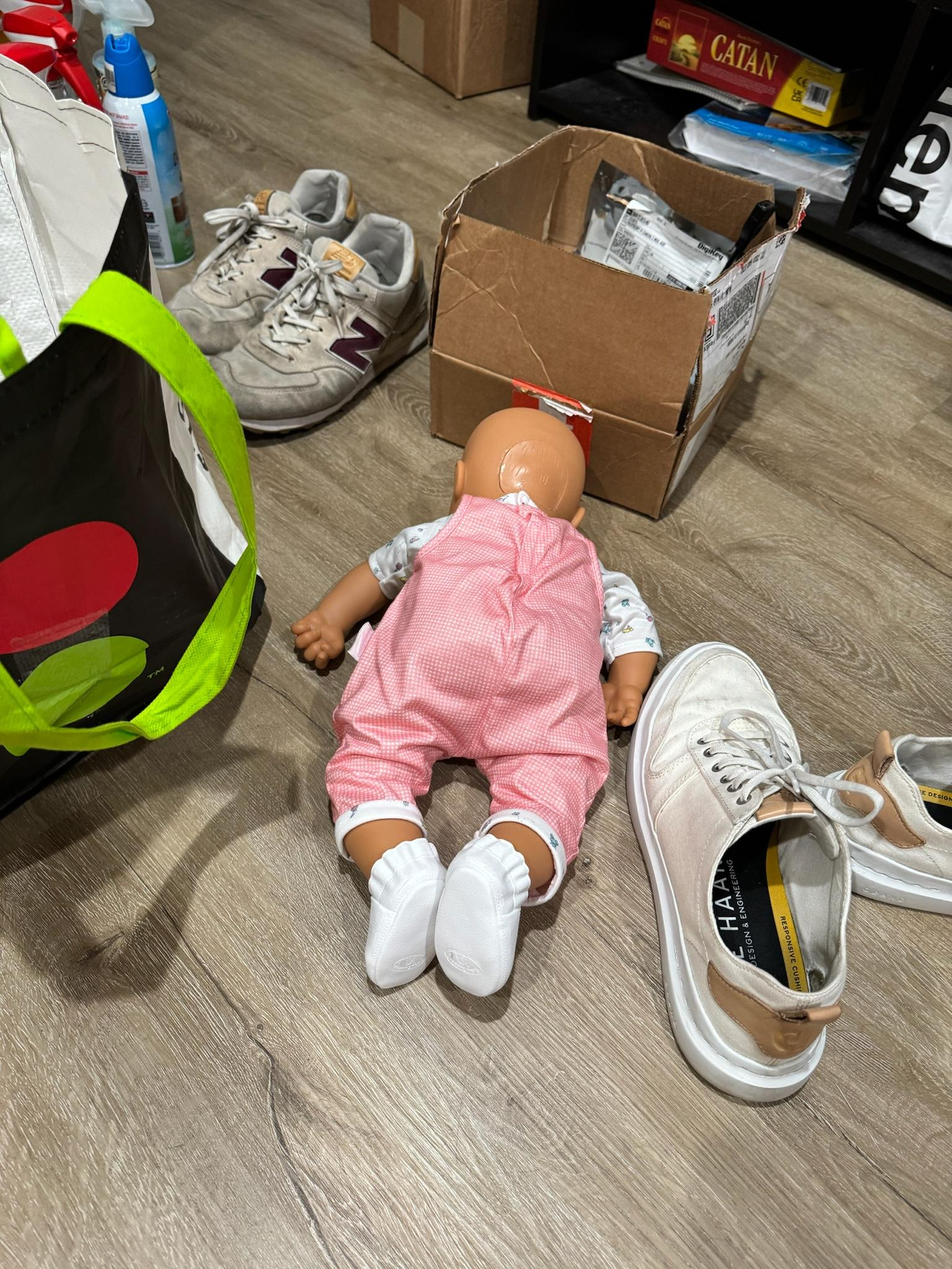baby: (306, 407, 659, 1006)
